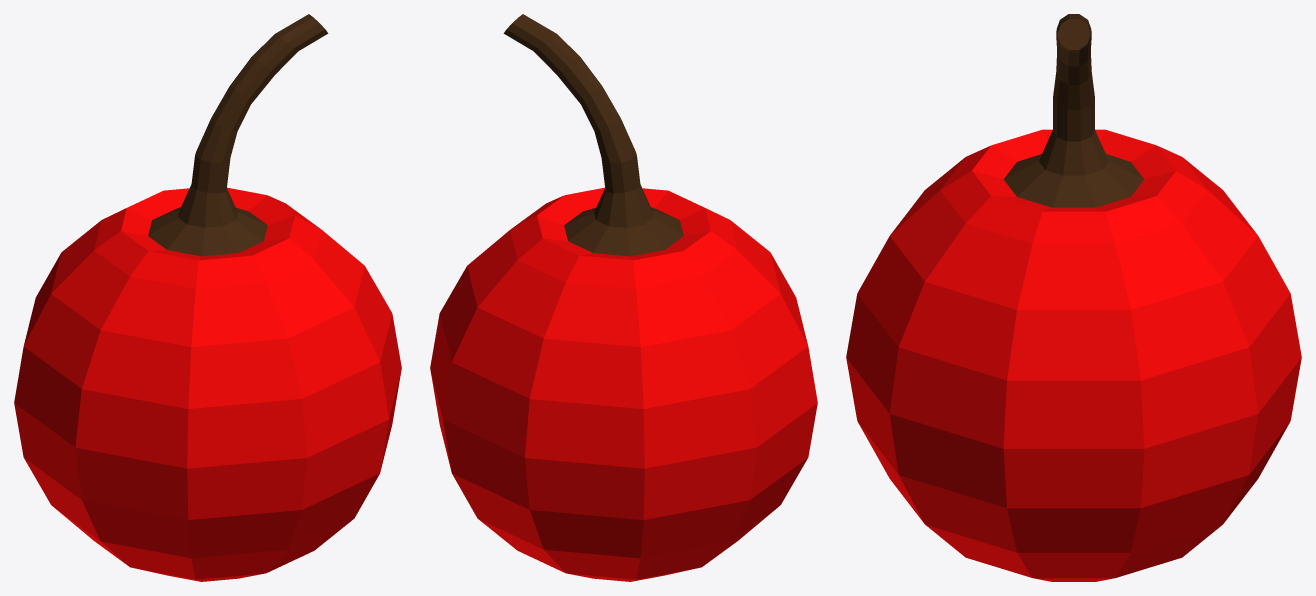
File: Apple.fbx
3 views of the same model, side by side, from view 1: azimuth 30°, elevation 25°; view 2: azimuth 150°, elevation 25°; view 3: azimuth 270°, elevation 25° (orthographic). The views are drawn at different scales.
Parts seen in each view (by area): view 1: Sphere; view 2: Sphere; view 3: Sphere.
Part boxes in pixels (bbox=[...]): Sphere: bbox=[14, 14, 401, 581]; Sphere: bbox=[430, 14, 817, 581]; Sphere: bbox=[846, 14, 1301, 581].
Size of the model in its own units: 190 by 287 by 200.
